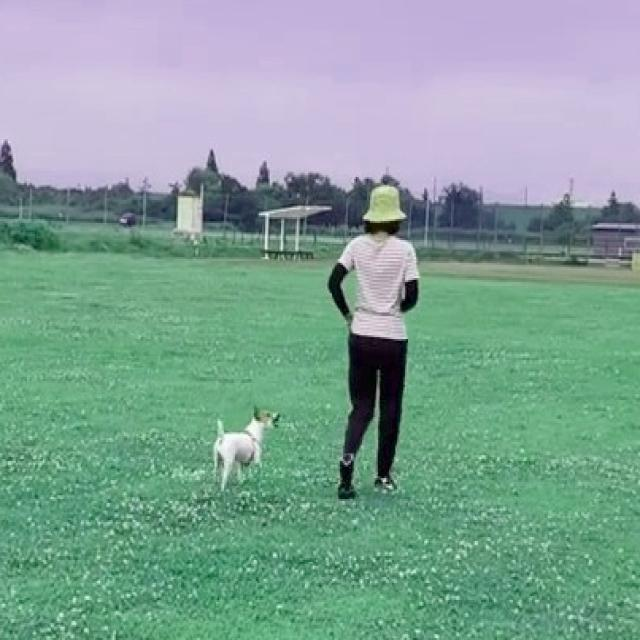Unleashed_Dog: (212, 323, 390, 492)
